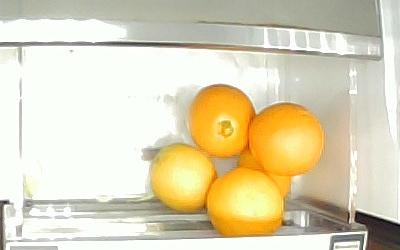orange: (247, 102, 325, 178), (186, 84, 256, 159), (206, 168, 284, 235), (149, 143, 218, 213), (238, 146, 291, 200)
